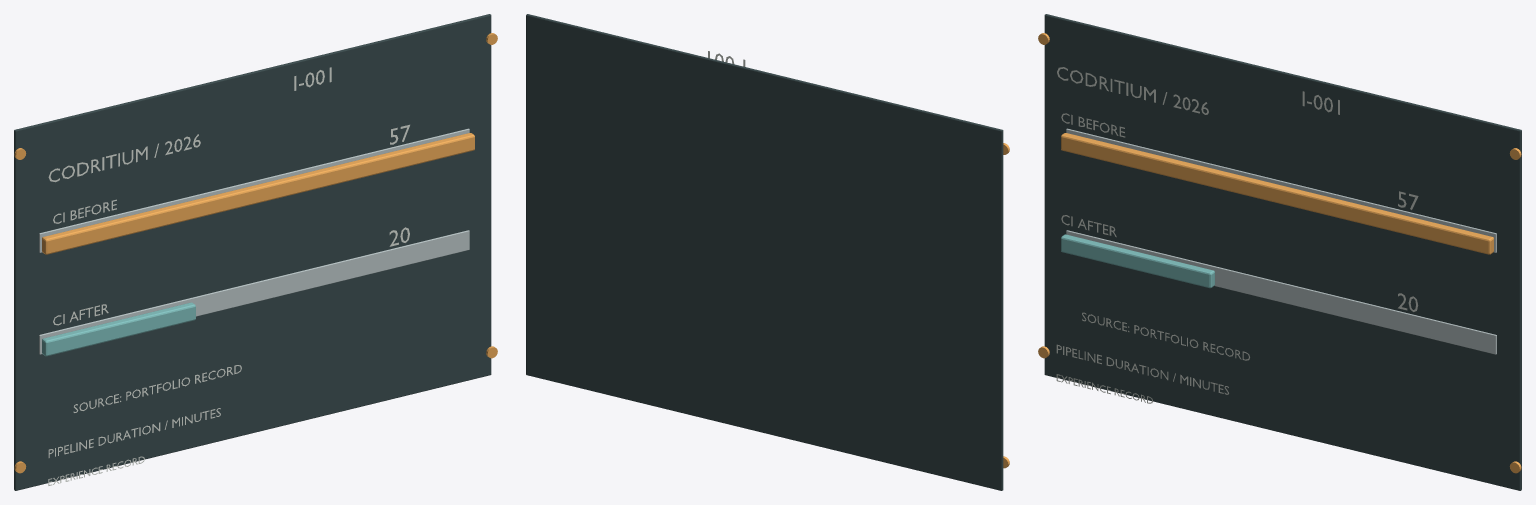
Rendered from codritium.glb.
The picture shows the model from 3 angles, left to right: view 1: azimuth 30°, elevation 25°; view 2: azimuth 150°, elevation 25°; view 3: azimuth 330°, elevation 25°; orthographic projection.
Visible parts, largest first — view 1: optical-core__Project_Graphite.010, optical-core__Project_Silver.004, optical-core__Project_Amber.005, optical-lenses__Project_Ceramic.010, optical-core__Project_Trace.004, optical-core__Project_Ceramic.008; view 2: optical-core__Project_Graphite.010; view 3: optical-core__Project_Graphite.010, optical-core__Project_Silver.004, optical-core__Project_Amber.005, optical-lenses__Project_Ceramic.010, optical-core__Project_Trace.004, optical-core__Project_Ceramic.008.
Part boxes in pixels (bbox=[...]): optical-core__Project_Graphite.010: bbox=[14, 14, 491, 490]; optical-core__Project_Silver.004: bbox=[39, 128, 469, 354]; optical-core__Project_Amber.005: bbox=[42, 133, 474, 254]; optical-lenses__Project_Ceramic.010: bbox=[48, 67, 331, 485]; optical-core__Project_Trace.004: bbox=[42, 302, 195, 356]; optical-core__Project_Ceramic.008: bbox=[53, 124, 409, 325]; optical-core__Project_Graphite.010: bbox=[526, 14, 1003, 490]; optical-core__Project_Graphite.010: bbox=[1044, 14, 1521, 490]; optical-core__Project_Silver.004: bbox=[1066, 128, 1496, 354]; optical-core__Project_Amber.005: bbox=[1061, 133, 1493, 254]; optical-lenses__Project_Ceramic.010: bbox=[1056, 67, 1339, 403]; optical-core__Project_Trace.004: bbox=[1061, 234, 1214, 288]; optical-core__Project_Ceramic.008: bbox=[1061, 113, 1418, 311].
Size of the model in its own units: 4.17 by 2.98 by 0.1795.
